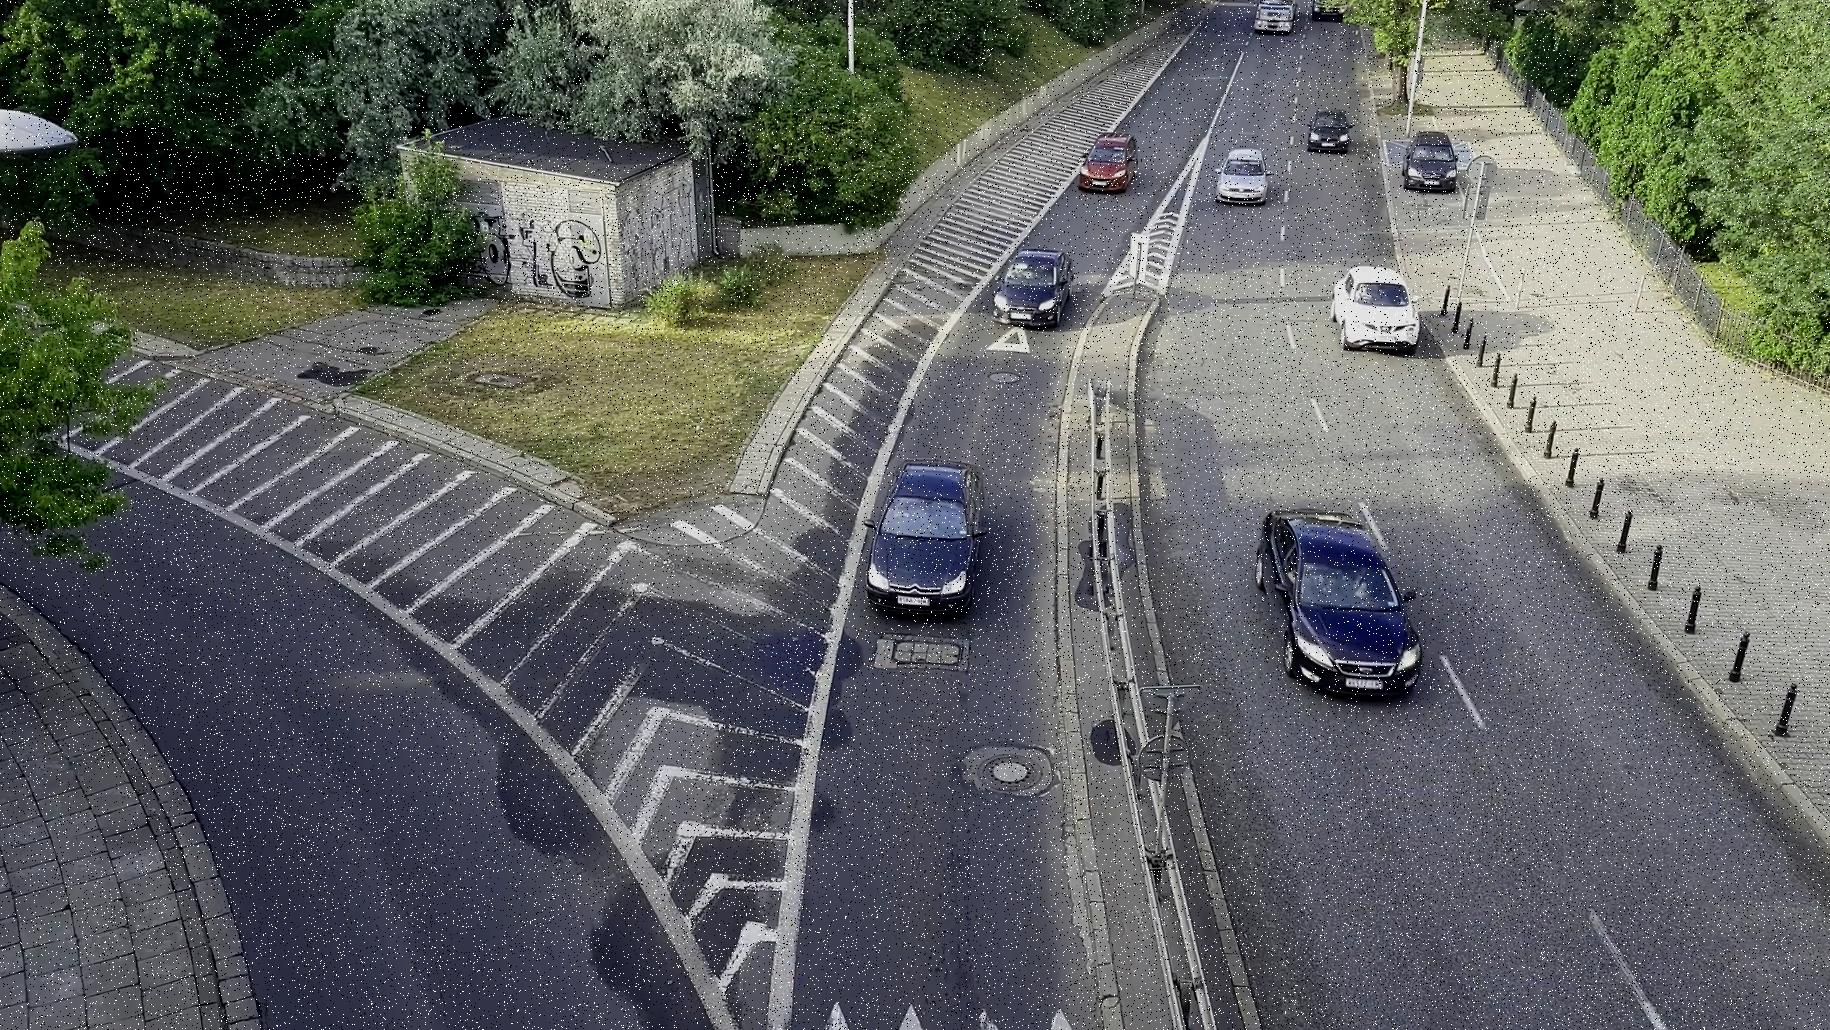car: (1236, 503, 1434, 706), (863, 460, 992, 629), (1326, 257, 1427, 353), (984, 243, 1082, 326), (1067, 130, 1150, 197), (1396, 122, 1466, 200), (1209, 146, 1277, 210), (1298, 102, 1361, 161)
